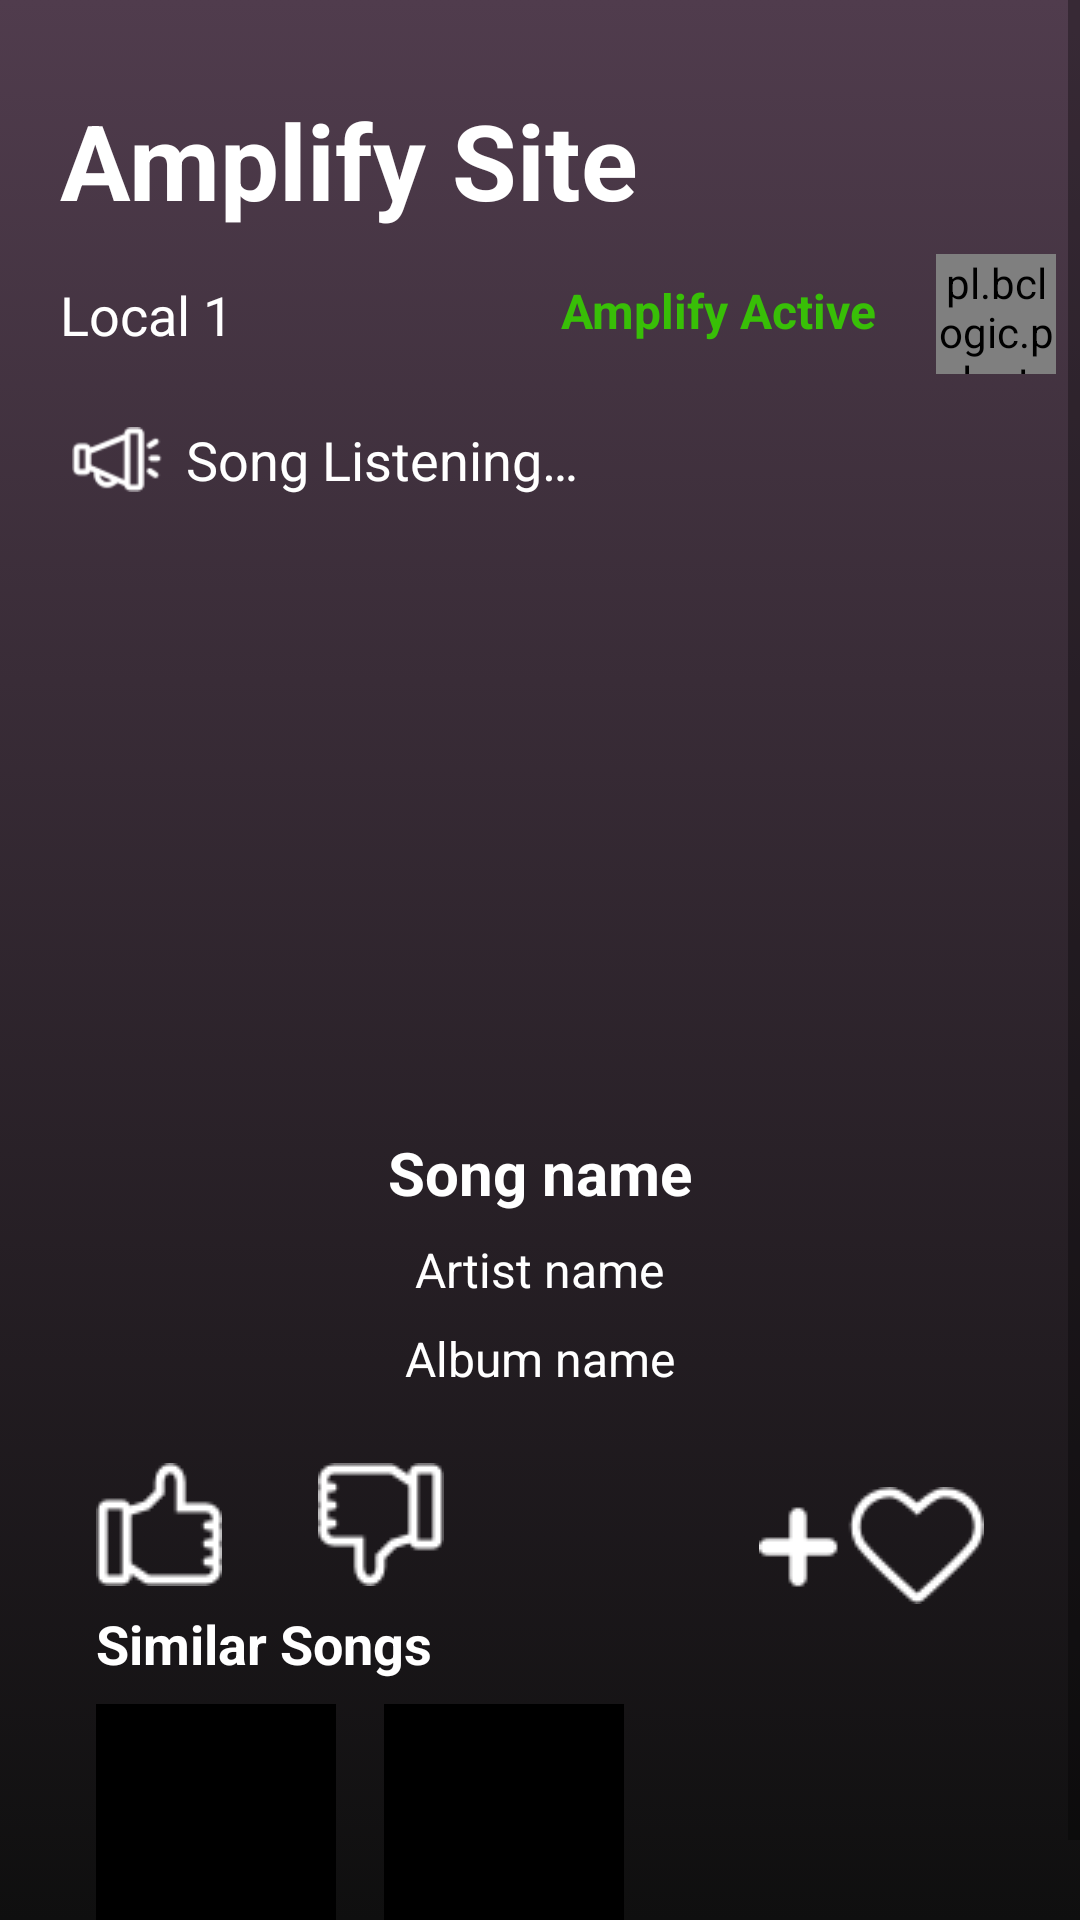

Screen size 1080px×1920px. Icon name, then its box in pixels as (x1=x1, y1=y1, x2=x2, y2=y2):
add tofav: (x1=759, y1=1487, x2=984, y2=1604)
dislike: (x1=318, y1=1463, x2=444, y2=1586)
like: (x1=96, y1=1463, x2=222, y2=1586)
